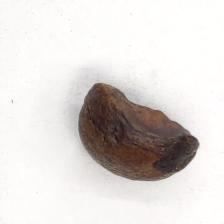NG: (97, 81, 198, 146)
